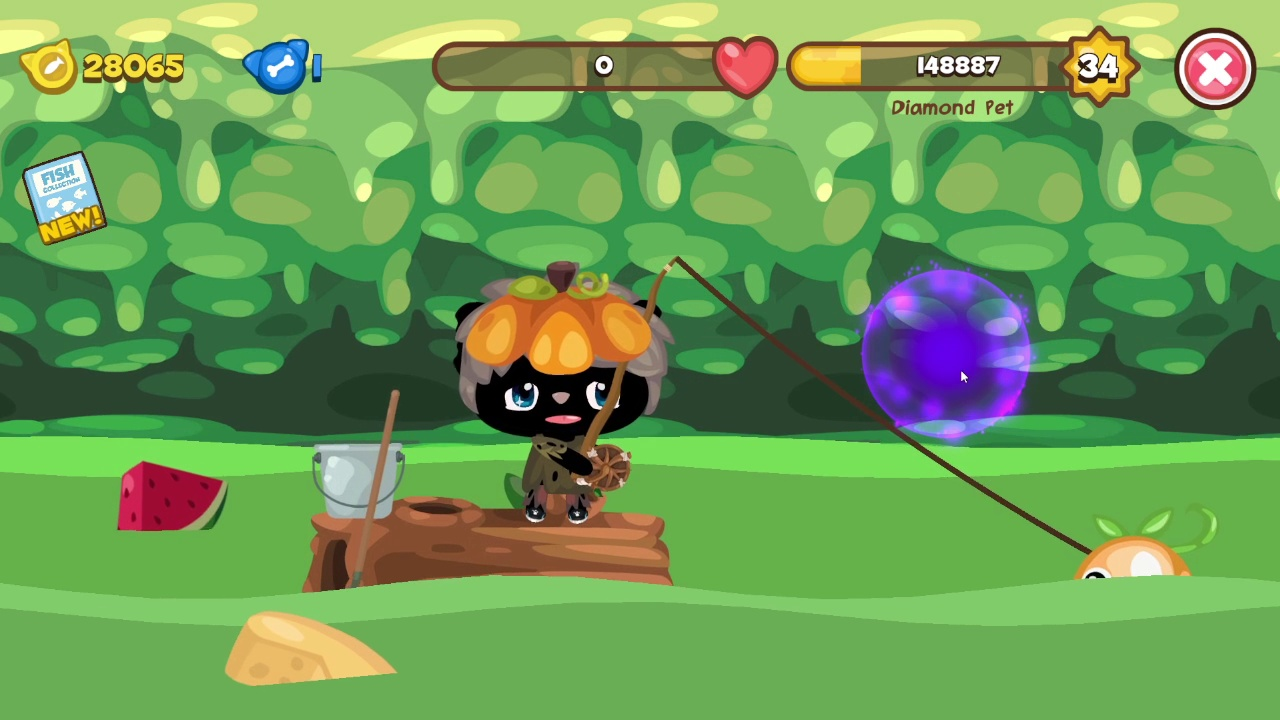point: (859, 266, 1033, 442)
